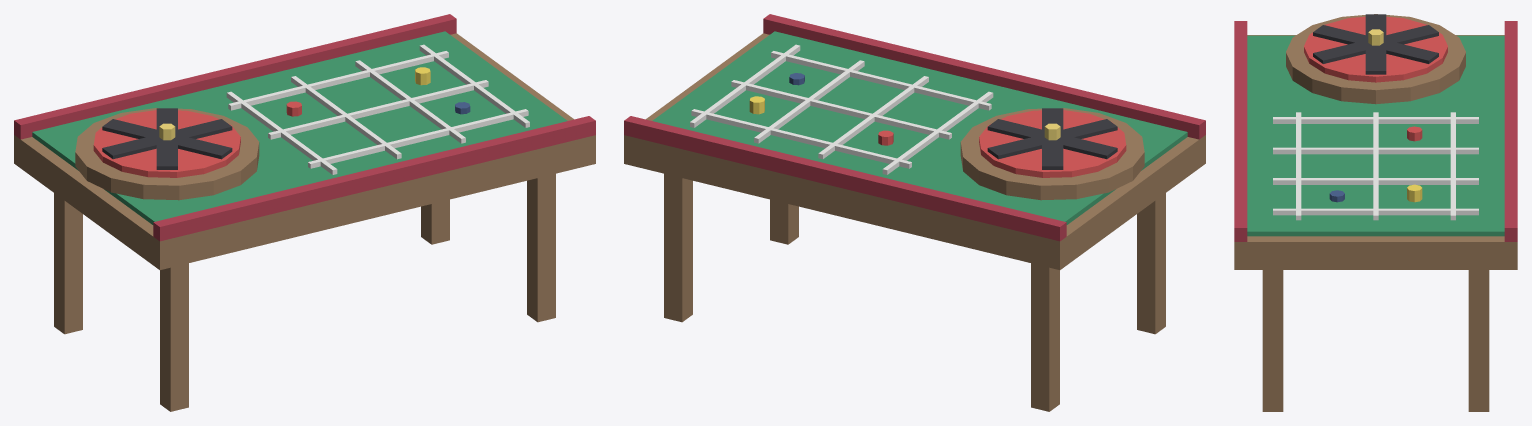
File: CR_Ruleta.fbx
The picture shows the model from 3 angles, left to right: view 1: azimuth 30°, elevation 25°; view 2: azimuth 150°, elevation 25°; view 3: azimuth 270°, elevation 25°; orthographic projection. The views are drawn at different scales.
Parts seen in each view (by area): view 1: CR_Ruleta; view 2: CR_Ruleta; view 3: CR_Ruleta.
Boxes of the visible parts, box(x1,y1,x2,y2) form: CR_Ruleta: box(14, 14, 595, 411); CR_Ruleta: box(624, 14, 1205, 411); CR_Ruleta: box(1234, 14, 1517, 411).
Size of the model in its own units: 1.9 by 0.955 by 1.1.
